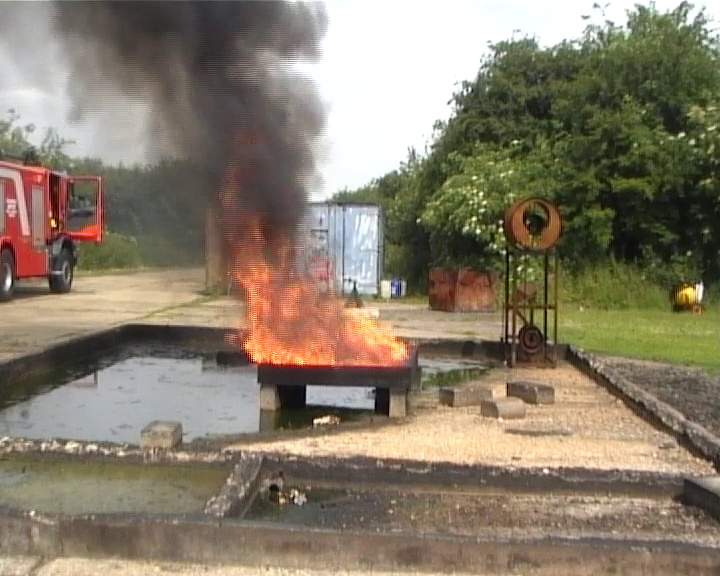fire: (241, 258, 406, 365), (680, 281, 703, 299)
